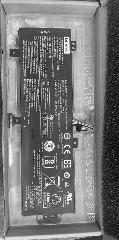electronic: (6, 12, 104, 232)
